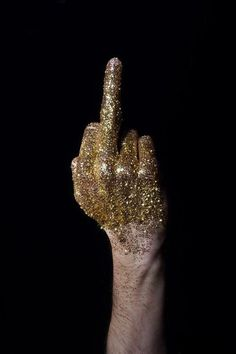finger: (99, 55, 125, 155), (75, 117, 100, 164), (138, 133, 156, 165), (125, 122, 138, 161)
